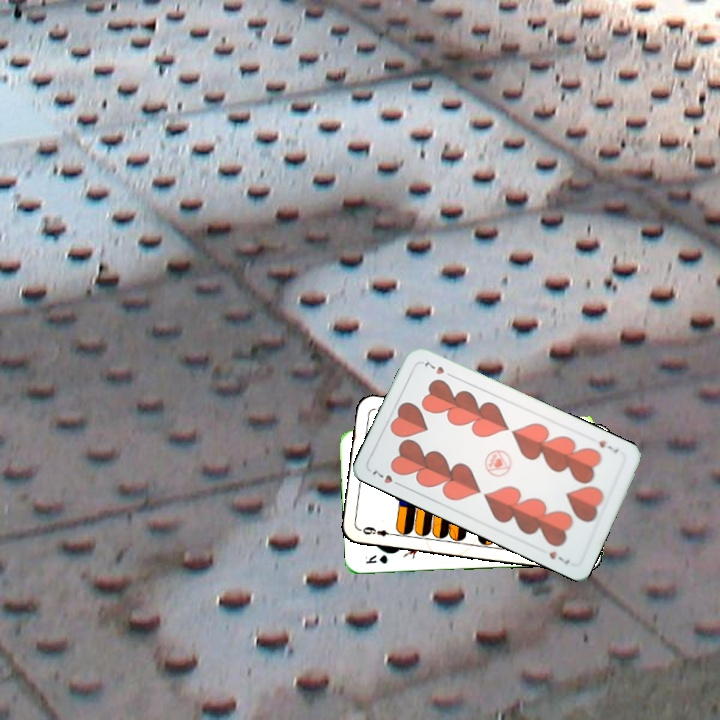E9: (359, 522, 397, 539)
GK: (361, 551, 390, 566)
H7: (368, 466, 405, 489), (595, 436, 621, 455)
